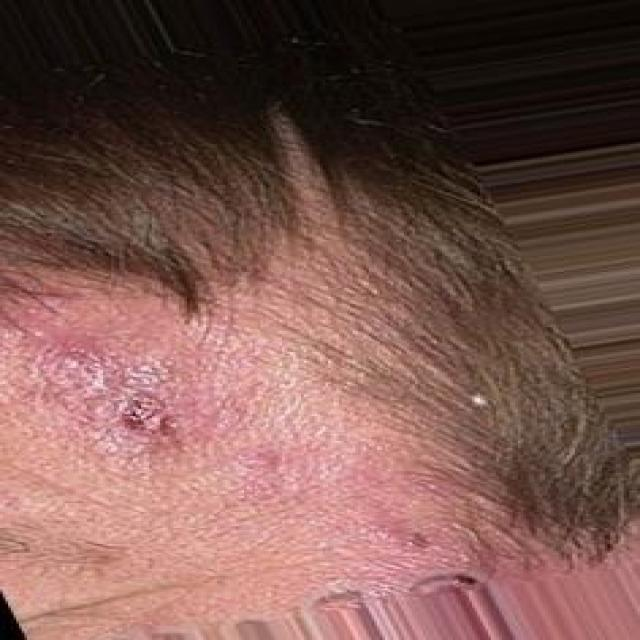Rosacea: (12, 306, 486, 584)
